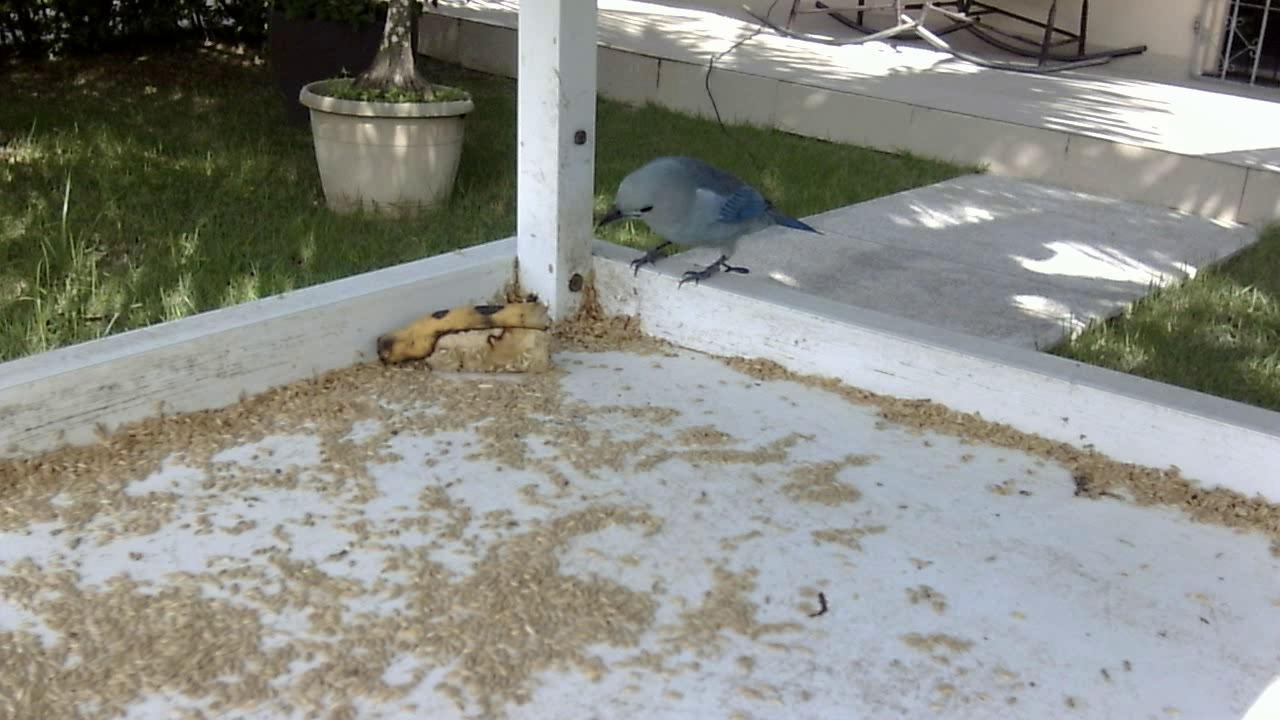sanhaco_da_amazonia: (595, 146, 829, 297)
